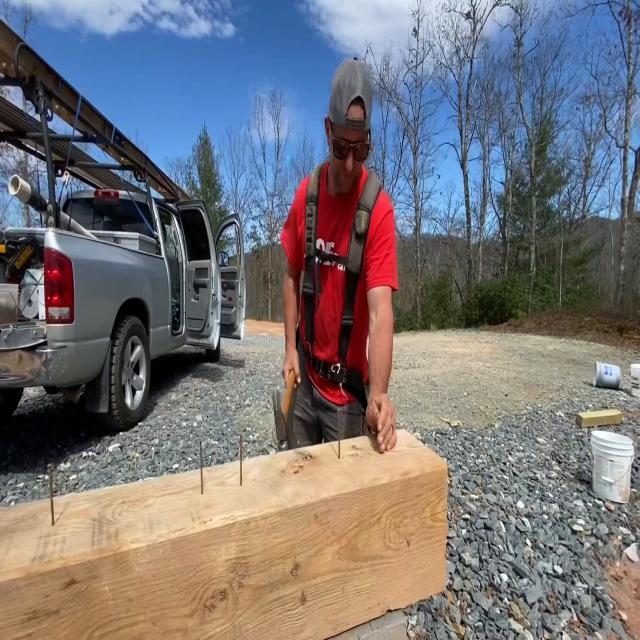hammer: (272, 370, 295, 452)
